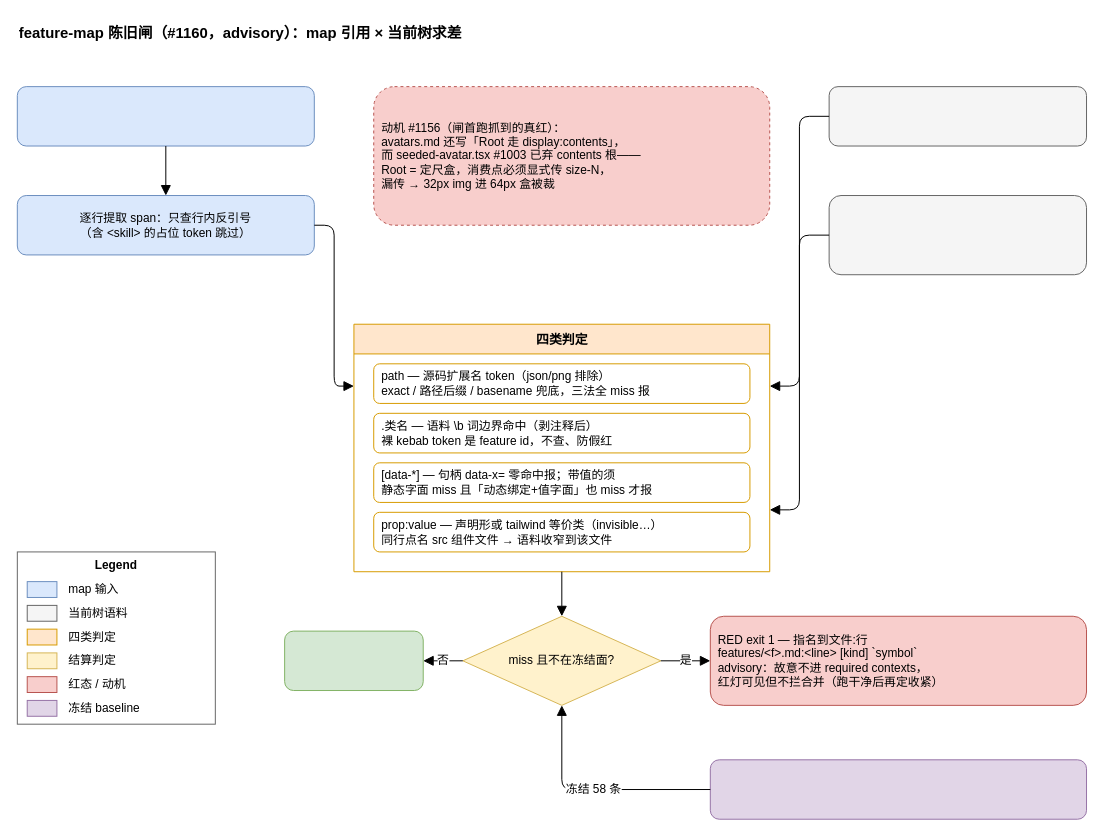
Image size: 1104x837. Some labels were removed from this diagram. Here are the shapes that lost their labels. From the top down, the centre of each, then its label:
point 165,116: .claude/skills/verify-pacman/ features/*.md（35 个 feature map）
point 957,116: 仓文件树 — walk 全仓一次 真实大小写字符串比较（不用 existsSync）
point 957,235: apps/web/src 语料 剥注释后拼接—— 注释里提到的类名不喂假绿
point 353,660: OK exit 0 （312 引用全命中）
point 898,789: baseline json — 存量 58 条冻结（#950/#952/#910 class→role 退役钩子）；条目转绿反过来红 → 提示删除
